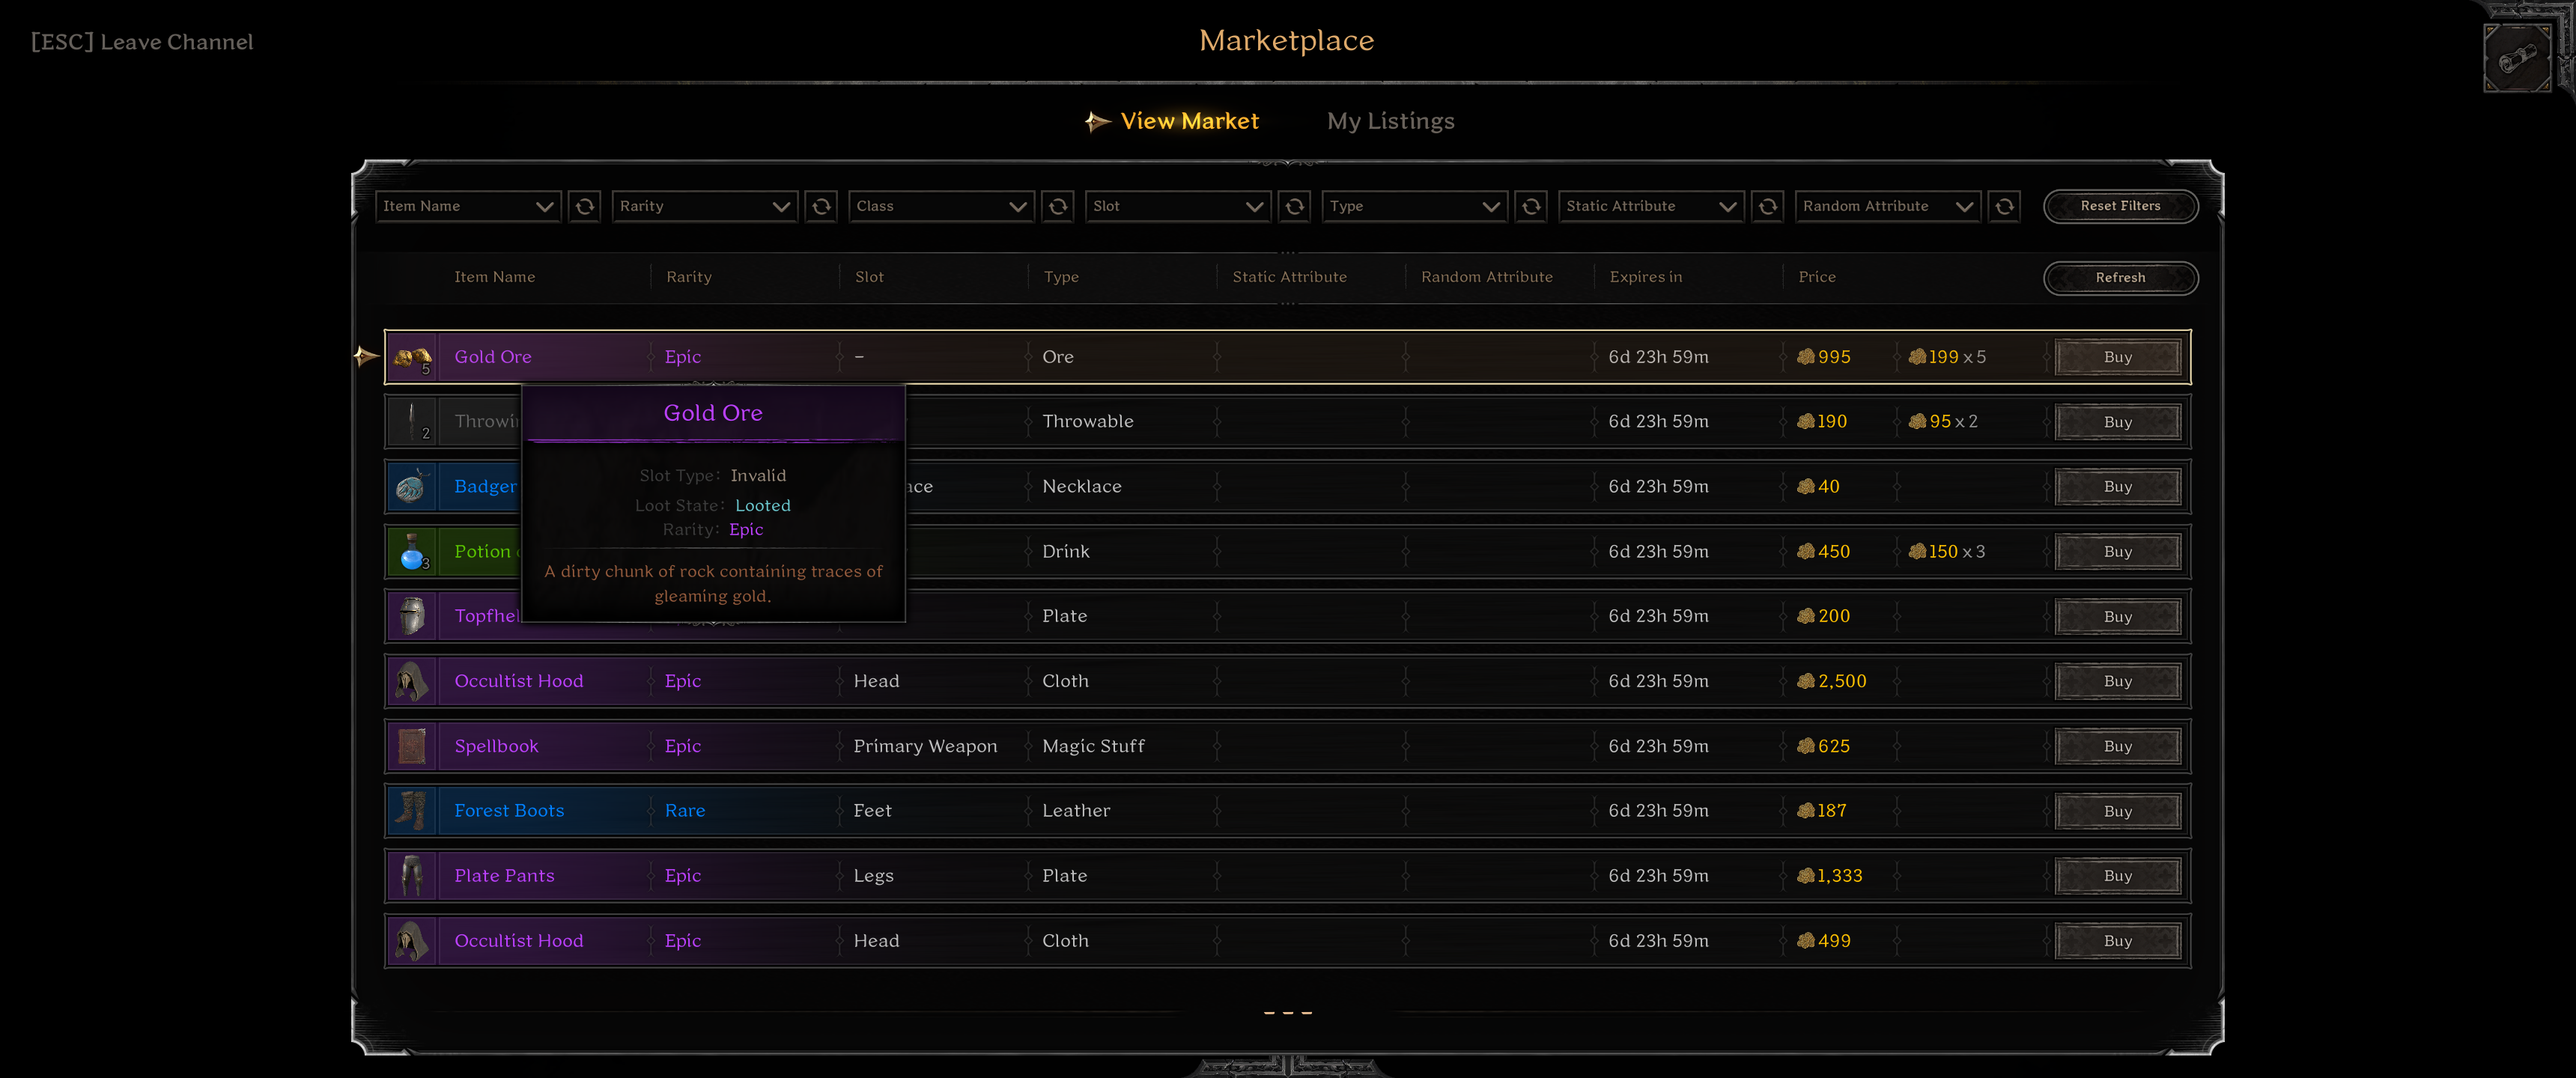Tooltip: (521, 385, 907, 623)
